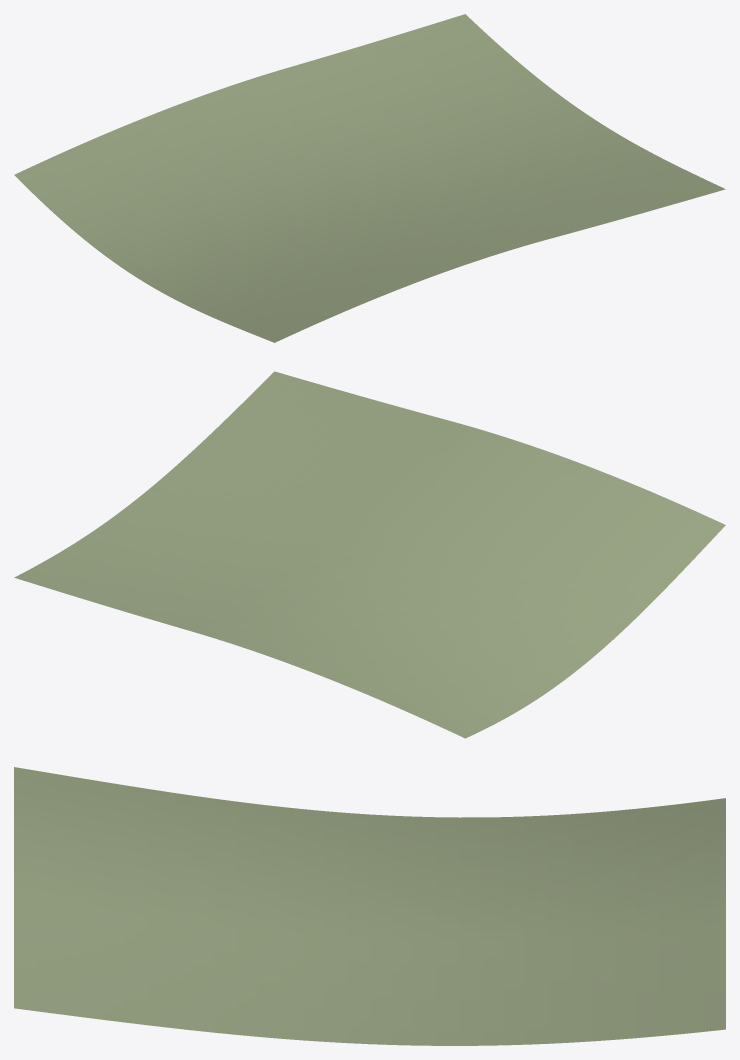
File: desert-24-5.glb
The picture shows the model from 3 angles, top to bottom: view 1: azimuth 30°, elevation 25°; view 2: azimuth 150°, elevation 25°; view 3: azimuth 270°, elevation 25°; orthographic projection. The views are drawn at different scales.
Parts seen in each view (by area): view 1: desert-24-5; view 2: desert-24-5; view 3: desert-24-5.
Part boxes in pixels (box(x1,y1,x2,y2)): desert-24-5: box(14, 14, 725, 342); desert-24-5: box(14, 371, 725, 738); desert-24-5: box(14, 767, 725, 1045).
Size of the model in its own units: 512 by 87.3 by 512.
